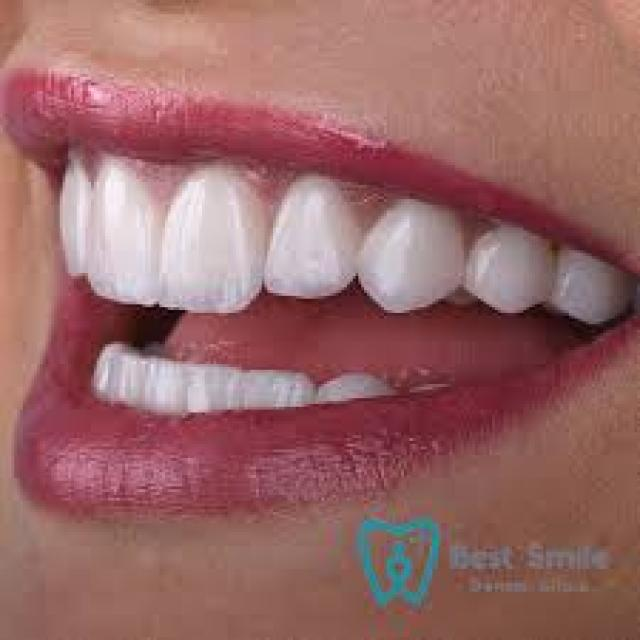tooth: (162, 174, 259, 307), (381, 196, 464, 304), (102, 165, 156, 299), (307, 171, 353, 293), (506, 227, 549, 313), (66, 174, 100, 278), (236, 361, 307, 407), (185, 361, 236, 410), (560, 282, 626, 318), (105, 358, 142, 398), (154, 356, 176, 418), (94, 336, 116, 390)
